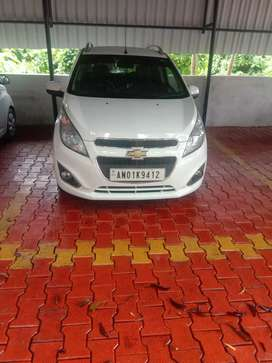AN01K9412: (109, 168, 165, 181)
